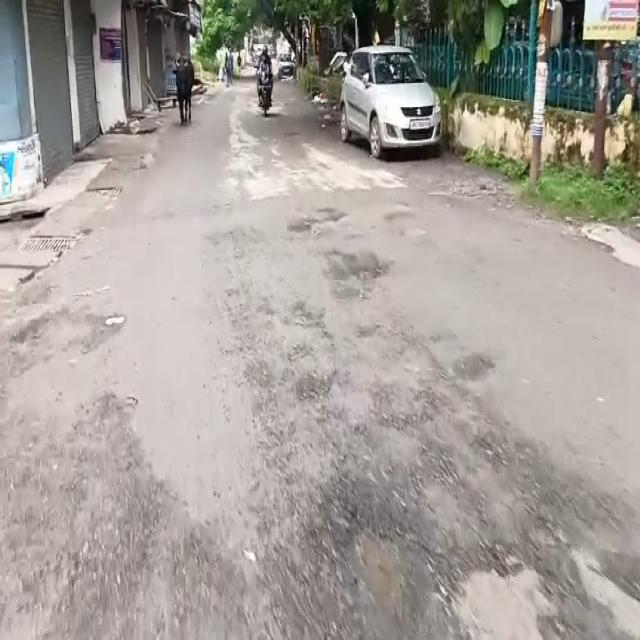road-pothole: (7, 389, 262, 639), (339, 492, 438, 638), (8, 306, 126, 381), (322, 250, 389, 312)
